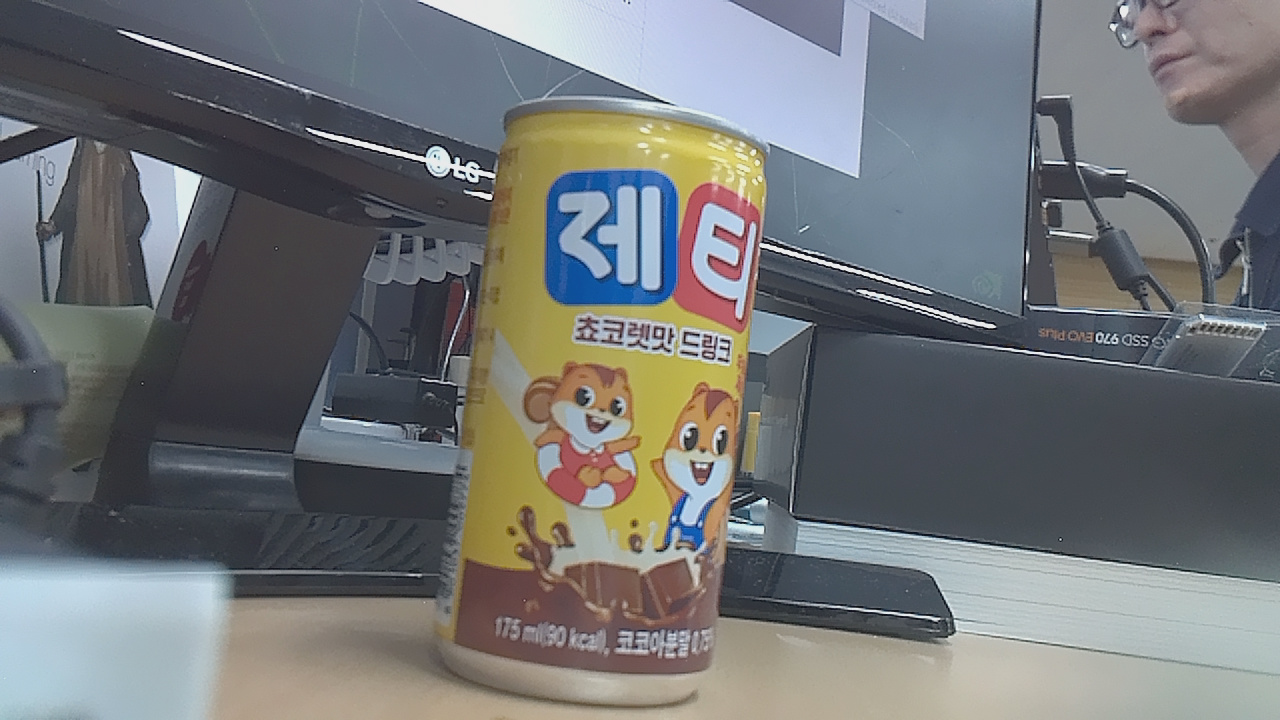jetty: (442, 87, 781, 718)
